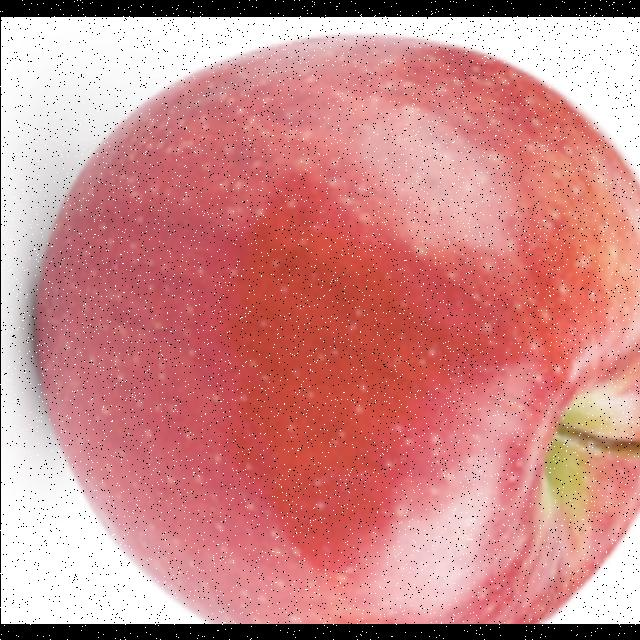Apel Segar: (20, 31, 640, 623)
